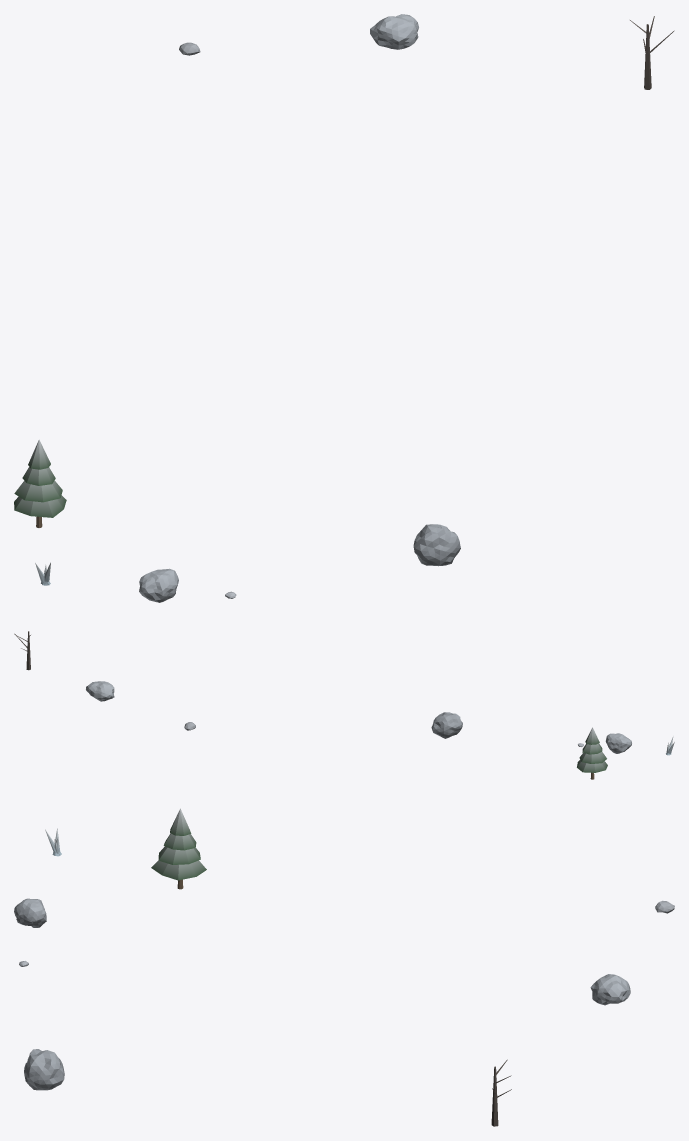
Rendered from frost_land_scatter_c13_13.glb.
3 renders of one model, top to bottom at view 1: azimuth 30°, elevation 25°; view 2: azimuth 150°, elevation 25°; view 3: azimuth 270°, elevation 25°, orthographic. The views are drawn at different scales.
Parts seen in each view (by area): view 1: frost_land_scatter_c13_13; view 2: frost_land_scatter_c13_13; view 3: frost_land_scatter_c13_13.
Part boxes in pixels (x1=…): frost_land_scatter_c13_13: x1=14, y1=14, x2=674, y2=602; frost_land_scatter_c13_13: x1=14, y1=631, x2=674, y2=779; frost_land_scatter_c13_13: x1=14, y1=808, x2=674, y2=1126.
Bounding box in the file's own units: 87.74 × 24.16 × 62.71.
